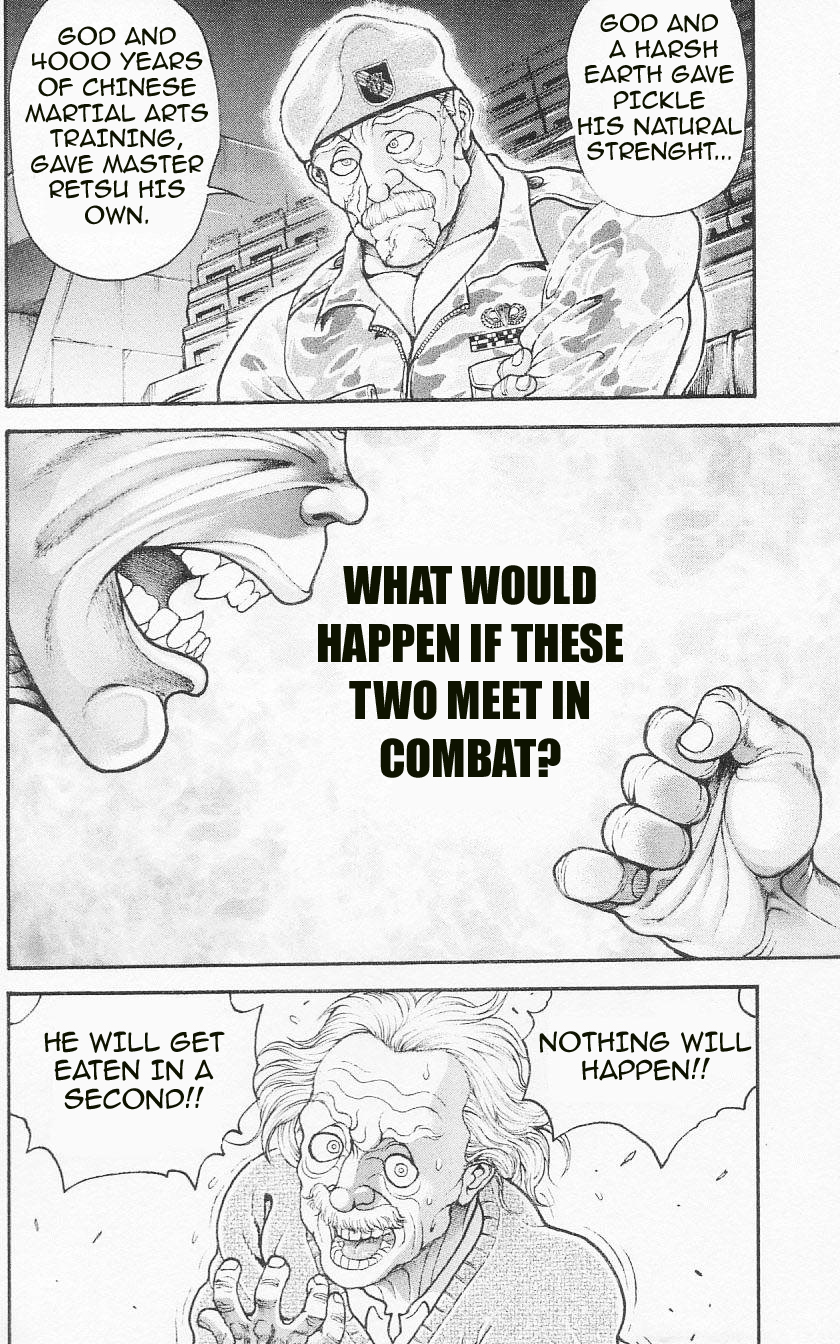Baloon: (7, 1, 223, 278), (1, 990, 270, 1196), (519, 992, 765, 1165), (570, 1, 749, 216)
Vignetta: (6, 429, 840, 972), (5, 1, 757, 406), (9, 982, 761, 1344)
